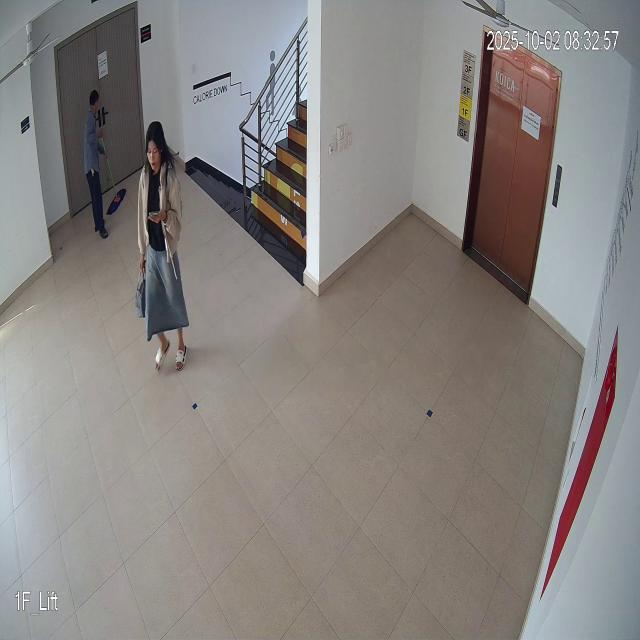face: (141, 116, 167, 182)
